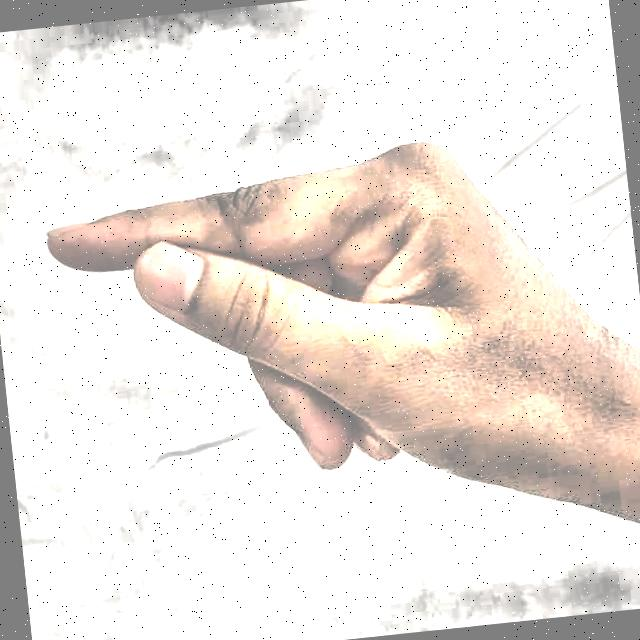Tha: (24, 93, 640, 603)
